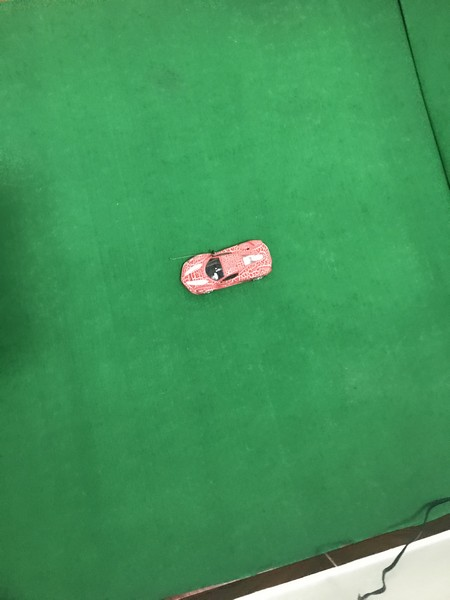RC: (177, 236, 278, 299)
